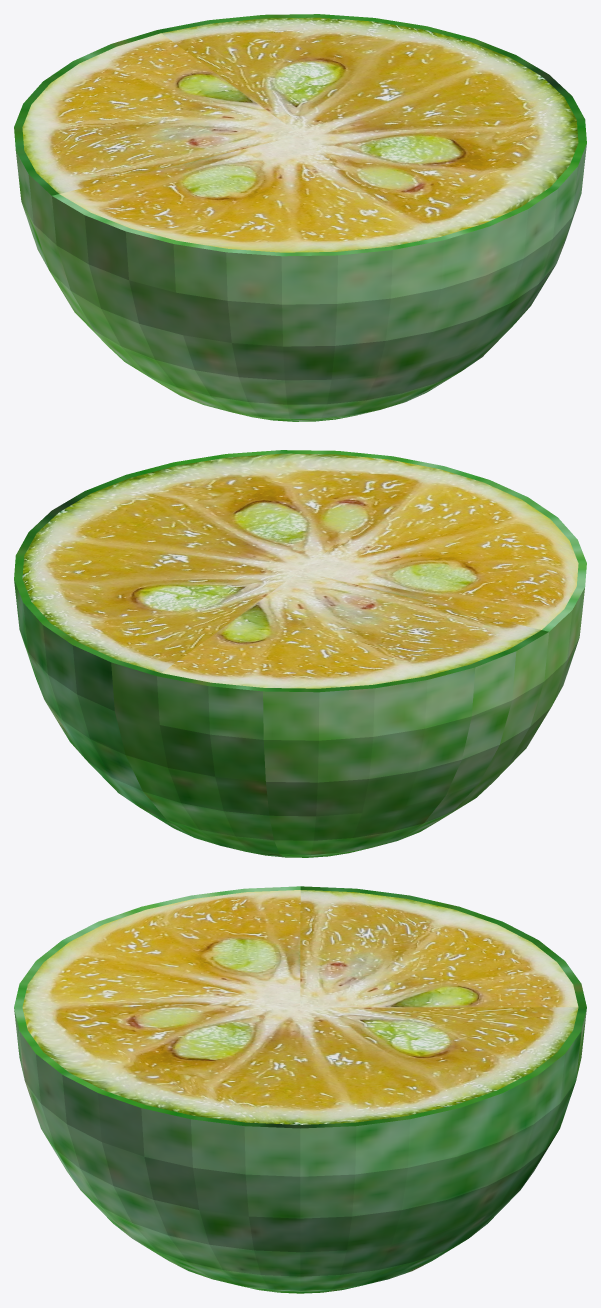
File: greenorange.fbx
3 views of the same model, one above another, from view 1: azimuth 30°, elevation 25°; view 2: azimuth 150°, elevation 25°; view 3: azimuth 270°, elevation 25° (orthographic).
Parts seen in each view (by area): view 1: 球; view 2: 球; view 3: 球.
Part boxes in pixels (x1,y1,x2,y2): 球: (14,14,586,421); 球: (14,450,586,857); 球: (14,886,586,1293).
Size of the model in its own units: 200 by 100 by 200.
